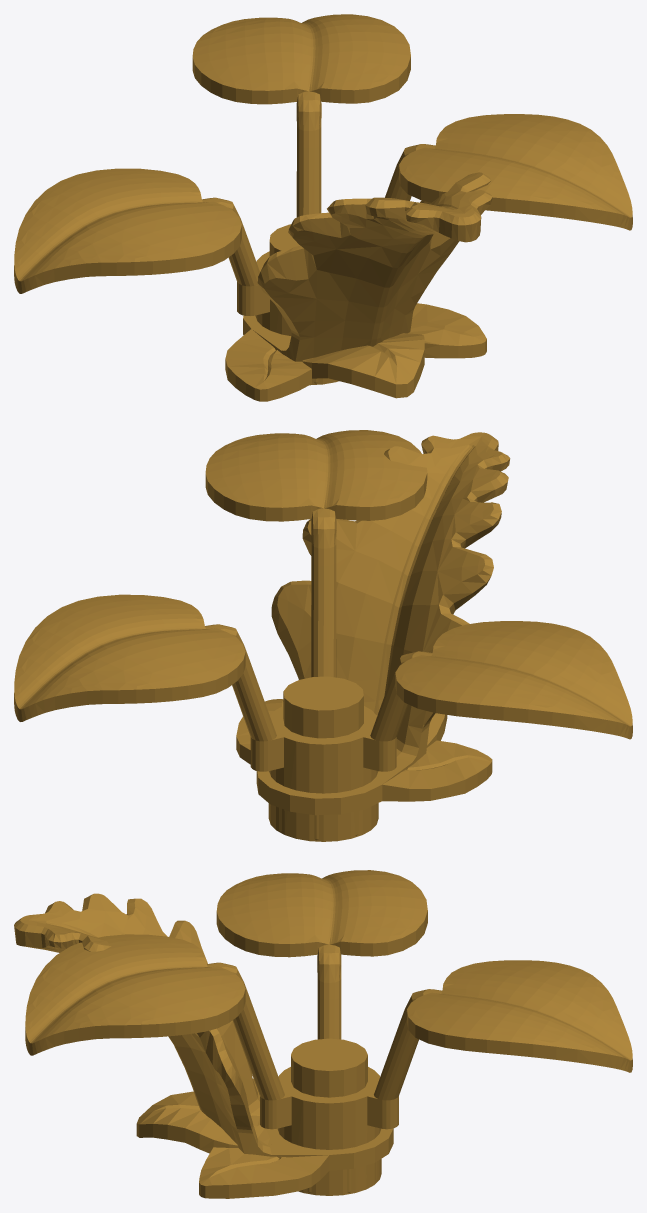
Rendered from Plants.dae.
3 views of the same model, one above another, from view 1: azimuth 30°, elevation 25°; view 2: azimuth 150°, elevation 25°; view 3: azimuth 270°, elevation 25° (orthographic). The views are drawn at different scales.
Visible parts, largest first — view 1: Part.2, Part.1, Part.0; view 2: Part.2, Part.1, Part.0; view 3: Part.2, Part.1, Part.0.
Boxes of the visible parts, x1,y1,x2,y2 form: Part.2: (14,14,632,385); Part.1: (243,172,492,361); Part.0: (225,303,486,401); Part.2: (14,430,632,841); Part.1: (257,432,510,815); Part.0: (236,699,492,840); Part.2: (25,870,632,1195); Part.1: (14,893,393,1170); Part.0: (136,1078,393,1198).
Size of the model in its own units: 34.07 by 17.59 by 38.53.
